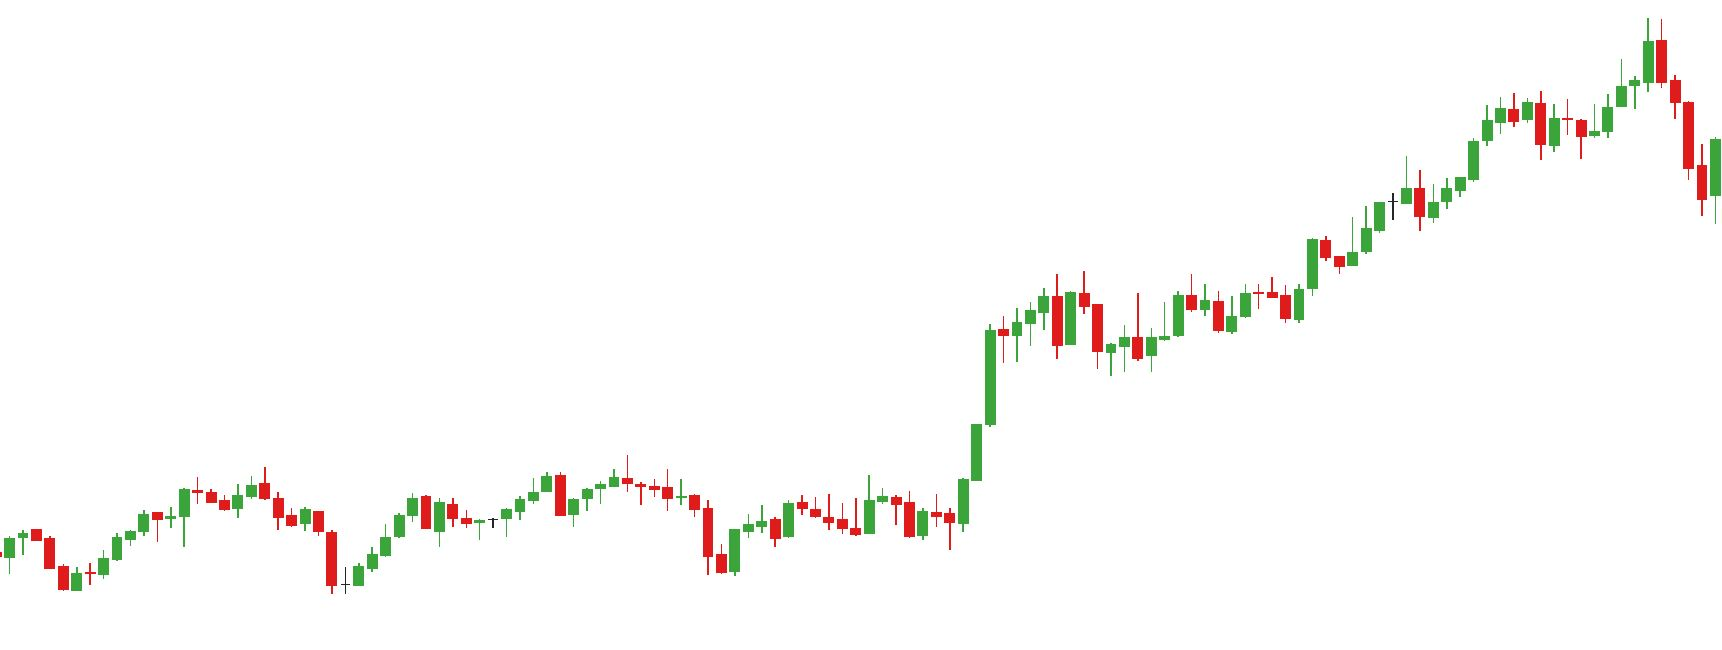buy: (434, 508, 742, 578)
